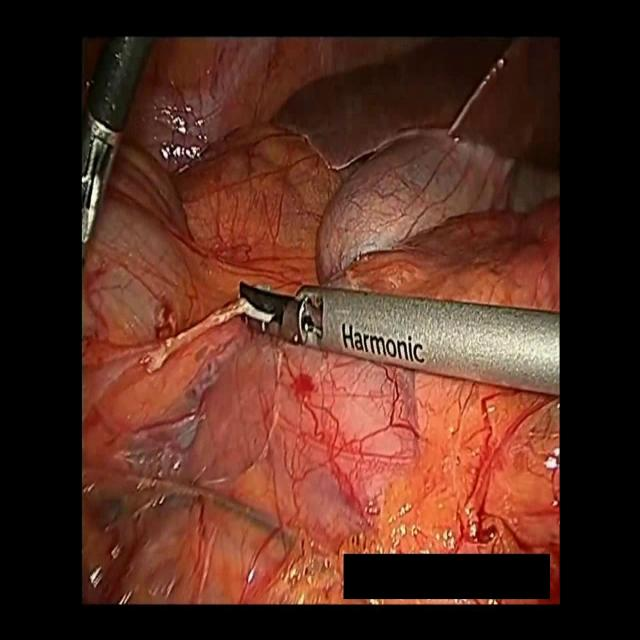surgical-area: (82, 36, 560, 604)
surgical-tool: (240, 279, 559, 395), (82, 36, 158, 265)
